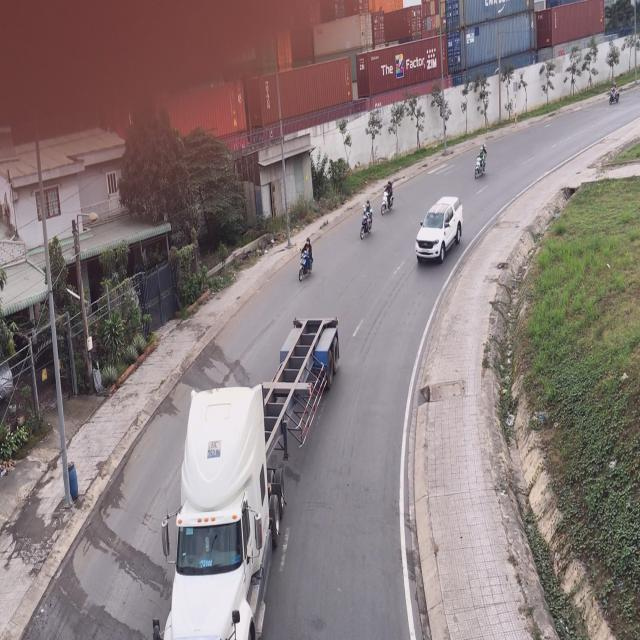car: (416, 196, 463, 264)
motorbike: (296, 237, 313, 285), (359, 198, 373, 242), (472, 144, 487, 182), (382, 180, 396, 218), (608, 72, 621, 106)
truck: (175, 314, 341, 640)
